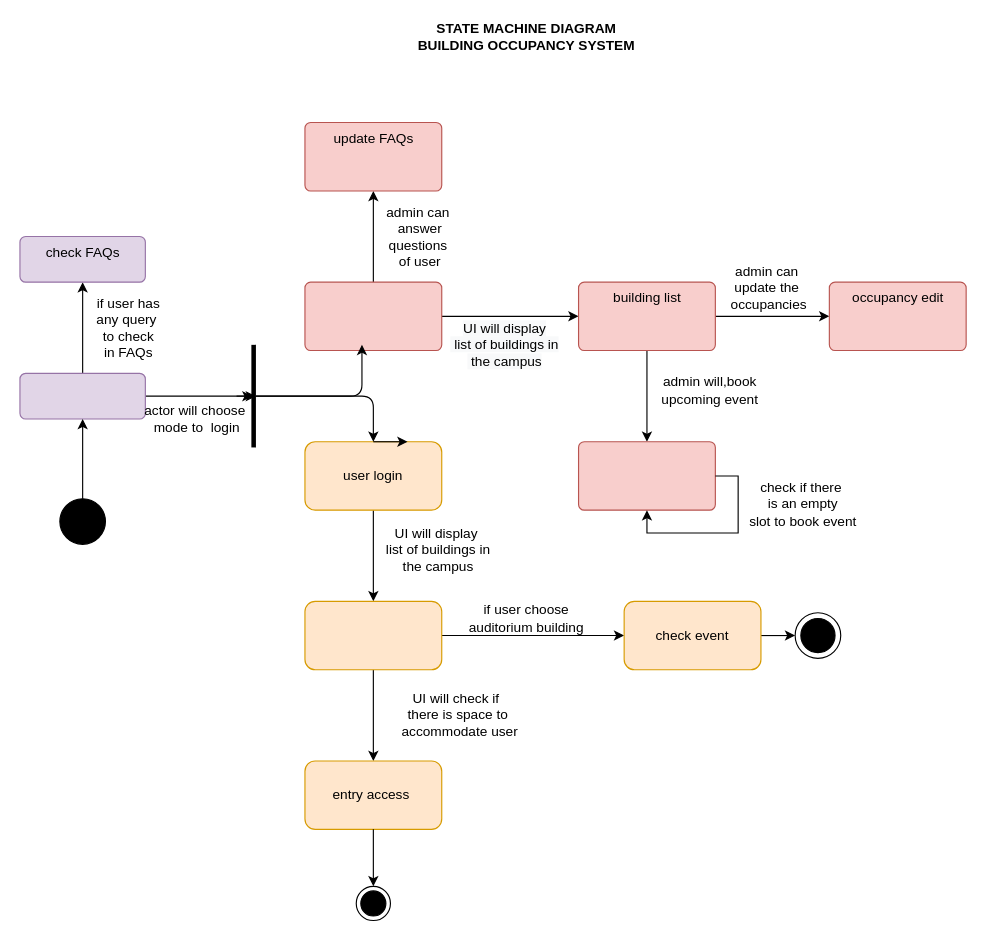
The diagram is 986 pixels wide and 941 high, and some of its shapes have lost their labels. The centre of each missing label's shape, as x and y in pixels:
admin login: the point at 373,316
auditorium event book: the point at 646,475
buildings list: the point at 373,635
UI interface: the point at 82,395
